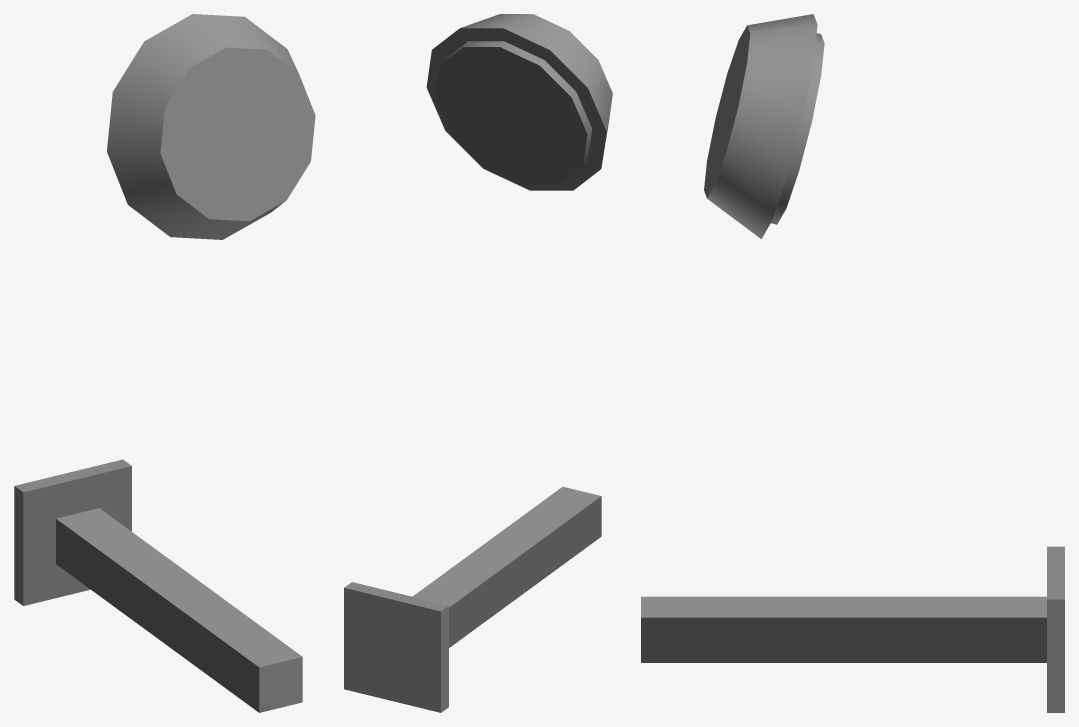
3 views of the same model, side by side, from view 1: azimuth 30°, elevation 25°; view 2: azimuth 150°, elevation 25°; view 3: azimuth 270°, elevation 25° (orthographic). The views are drawn at different scales.
Size of the model in its own units: 0.26 by 0.8165 by 0.474.
